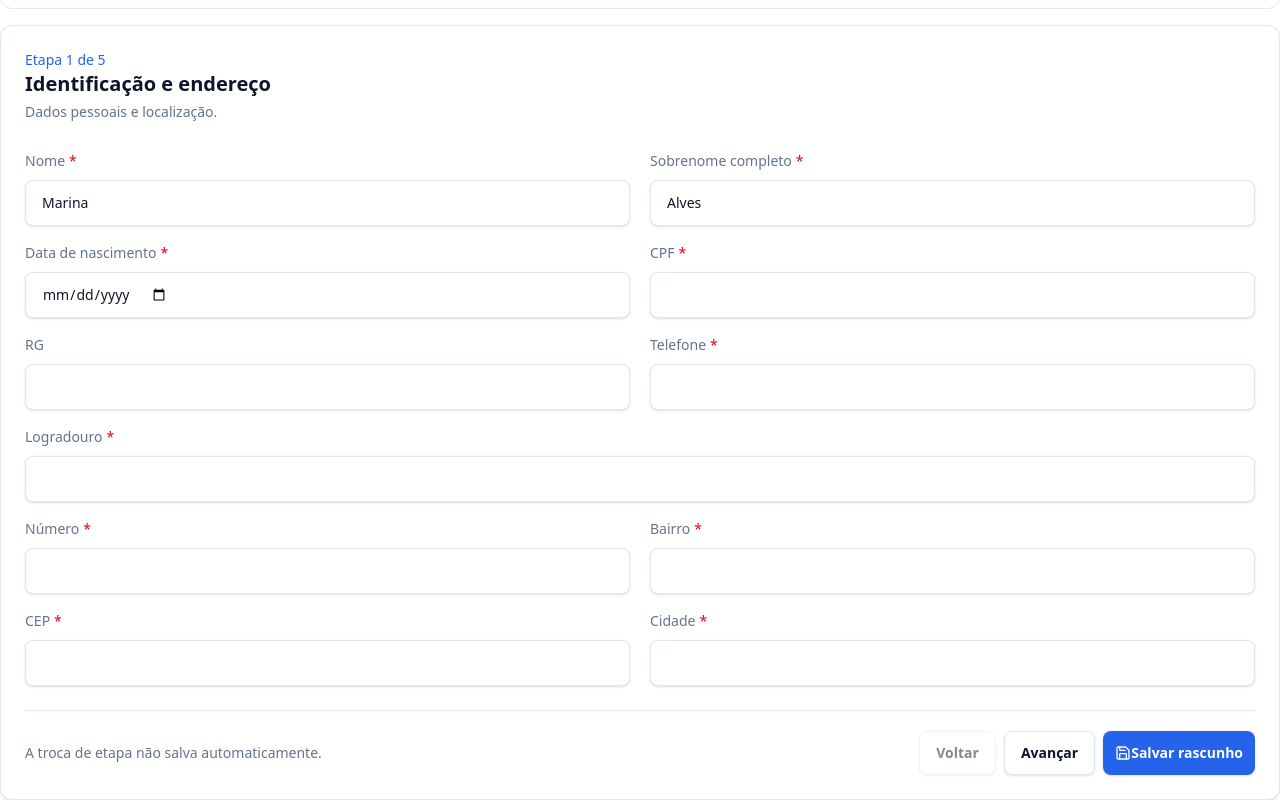
Test: OratorianoFormEditor › bloqueia avanço quando falta campo obrigatório
(page scrolled)
Click the button "Avançar": (1050, 753) [1004,731,1095,775]
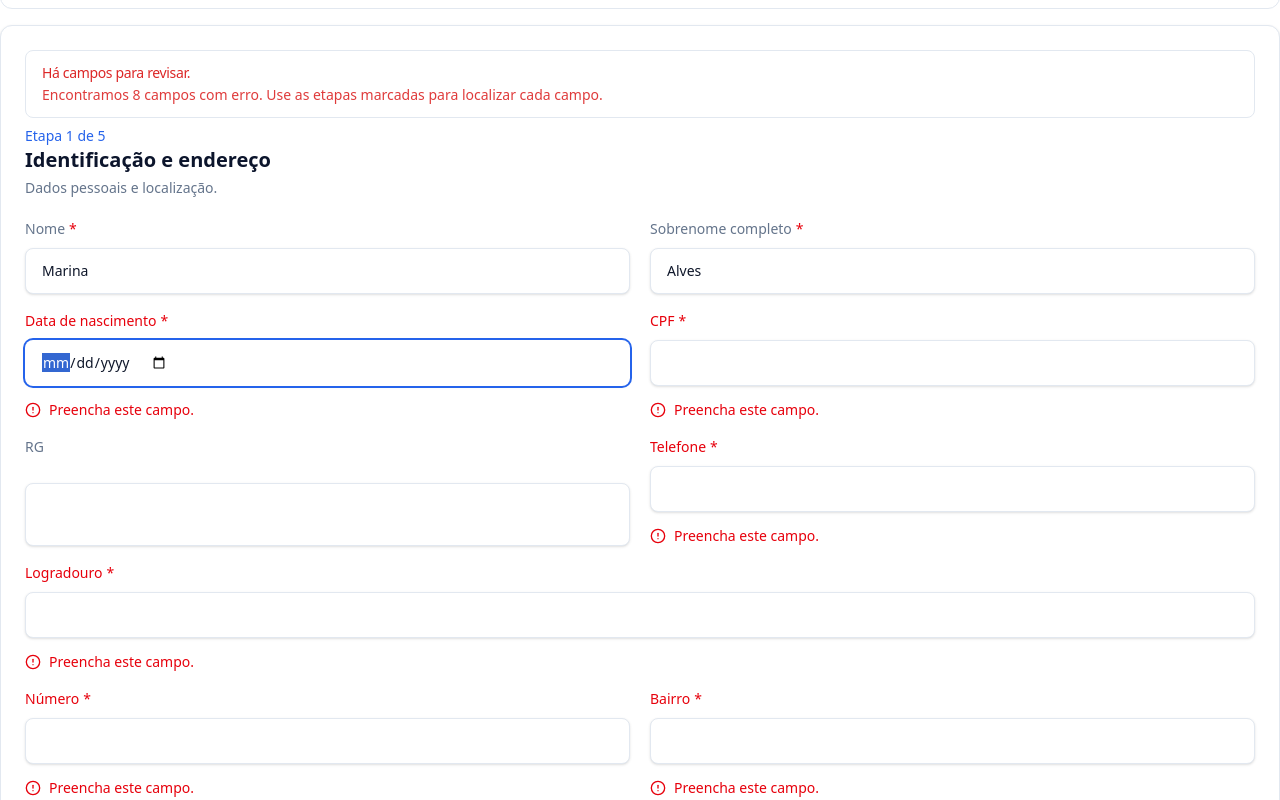
Expected: the heading "Identificação e endereço" is shown, [25,146,271,173]
Result: the text "Preencha este campo." below "Data de nascimento" is shown at [49,400,194,419]
